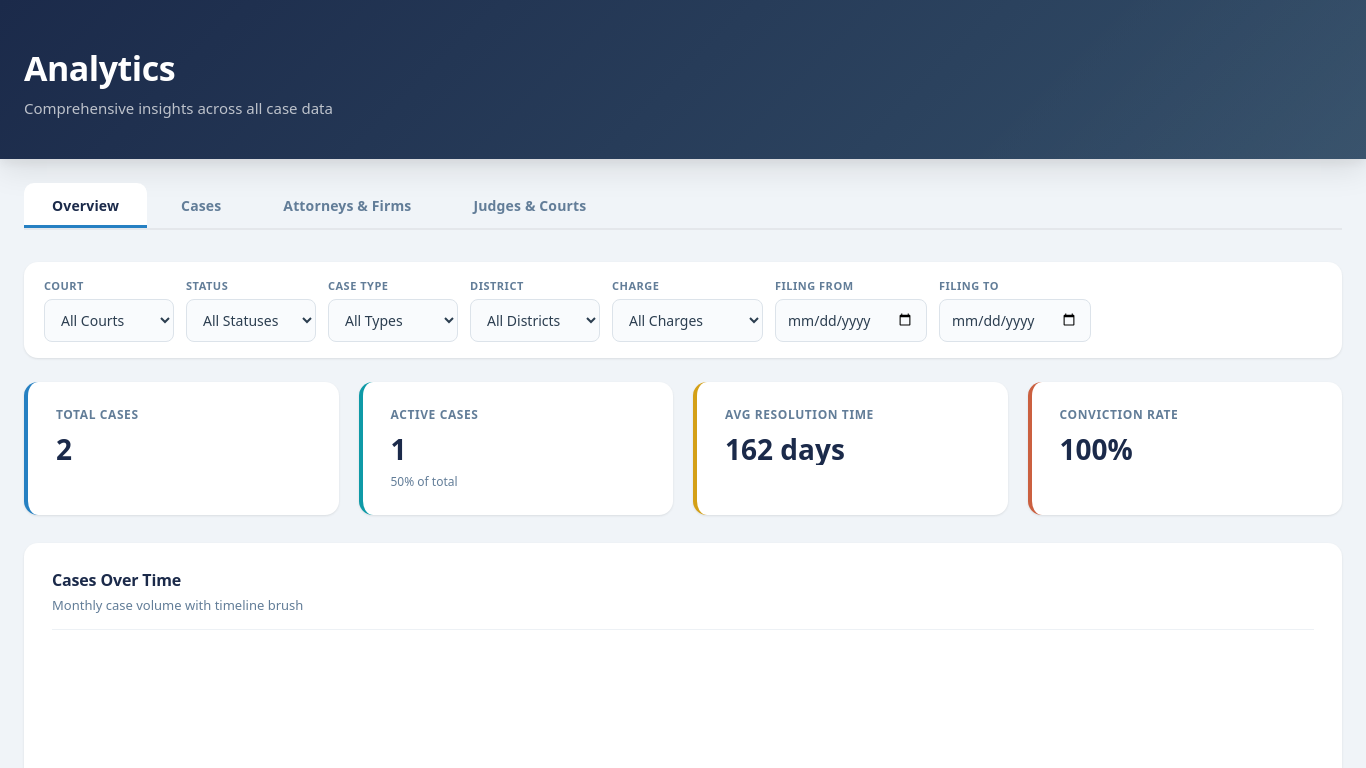
Analytics › switches to attorney analytics tab
Click the button "Attorneys & Firms".
click(347, 206)  # box [255,183,439,228]
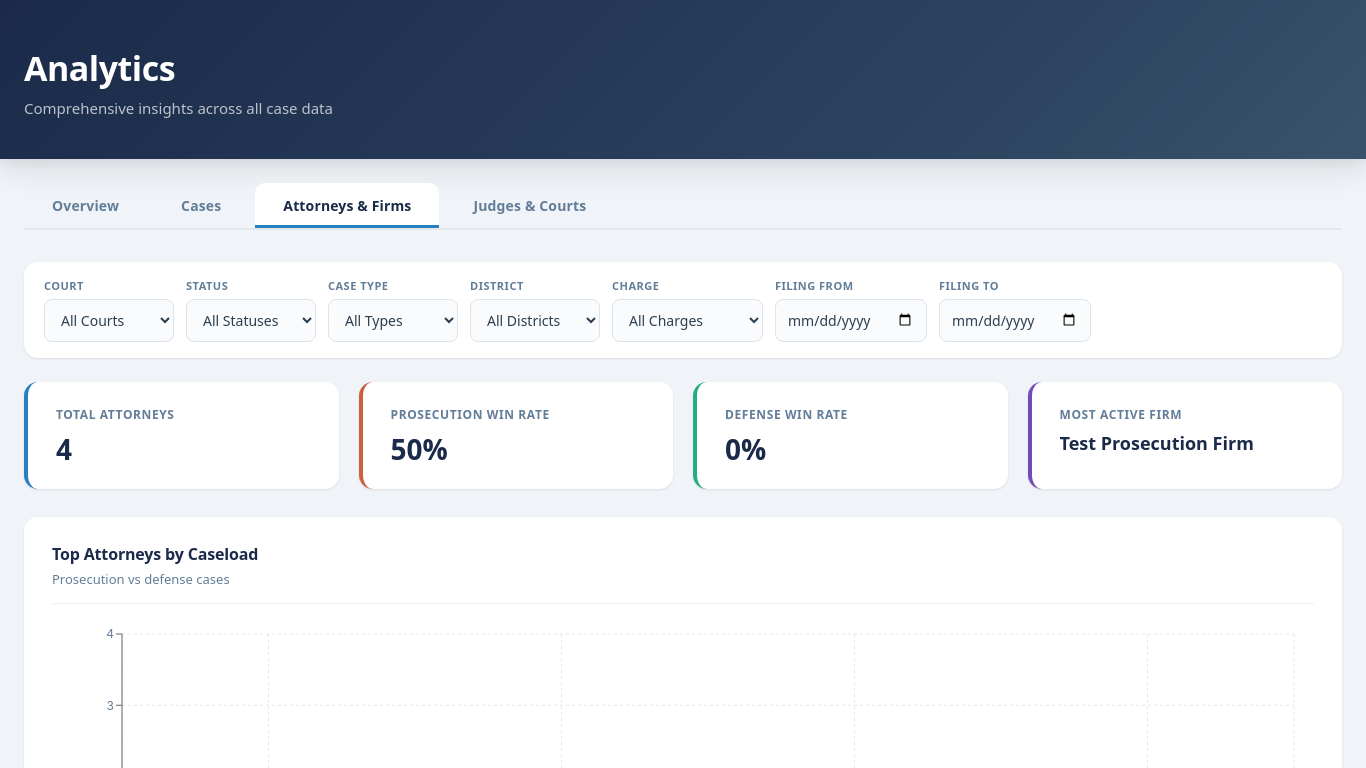
Expected: the text "Total Attorneys" is shown, [56,406,175,423]
